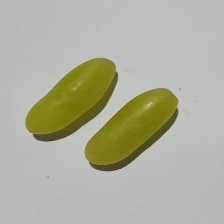grapes: (35, 10, 199, 178)
